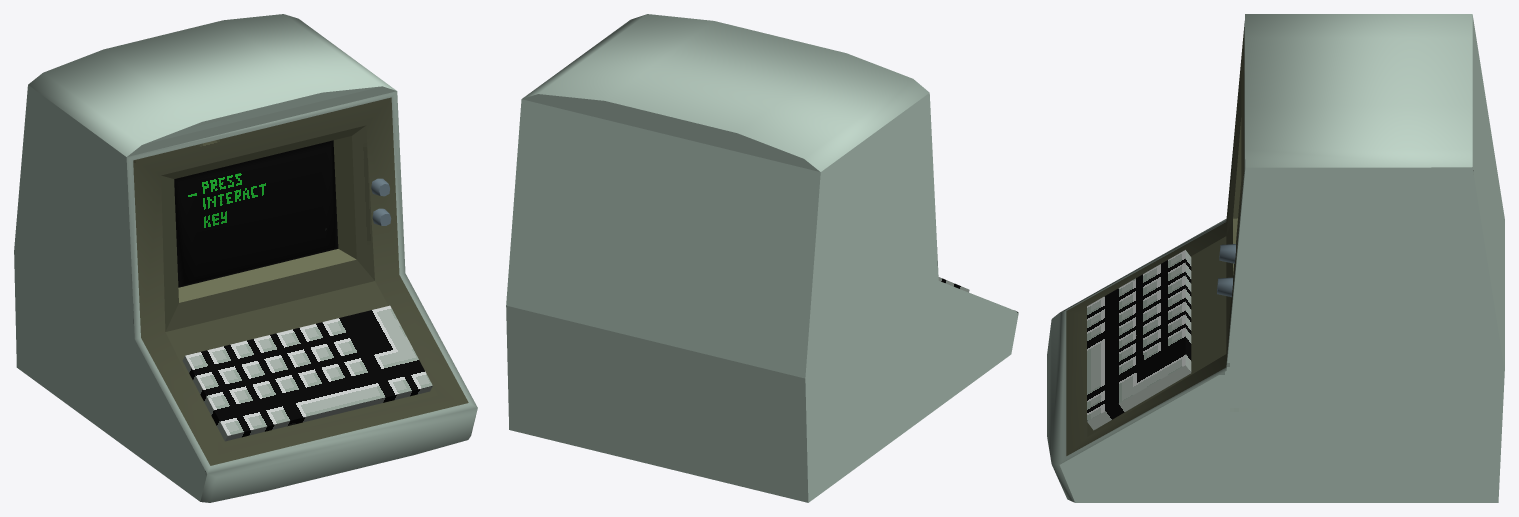
The model's file is terminal-table.glb.
3 views of the same model, side by side, from view 1: azimuth 30°, elevation 25°; view 2: azimuth 150°, elevation 25°; view 3: azimuth 270°, elevation 25° (orthographic). The views are drawn at different scales.
Parts seen in each view (by area): view 1: terminal-table; view 2: terminal-table; view 3: terminal-table.
Part boxes in pixels (x1,y1,x2,y2): terminal-table: (14, 14, 477, 502); terminal-table: (506, 14, 1018, 502); terminal-table: (1047, 14, 1504, 502).
Bounding box in the file's own units: 3.63 × 3.95 × 4.61.
1 material, 1 textured.
